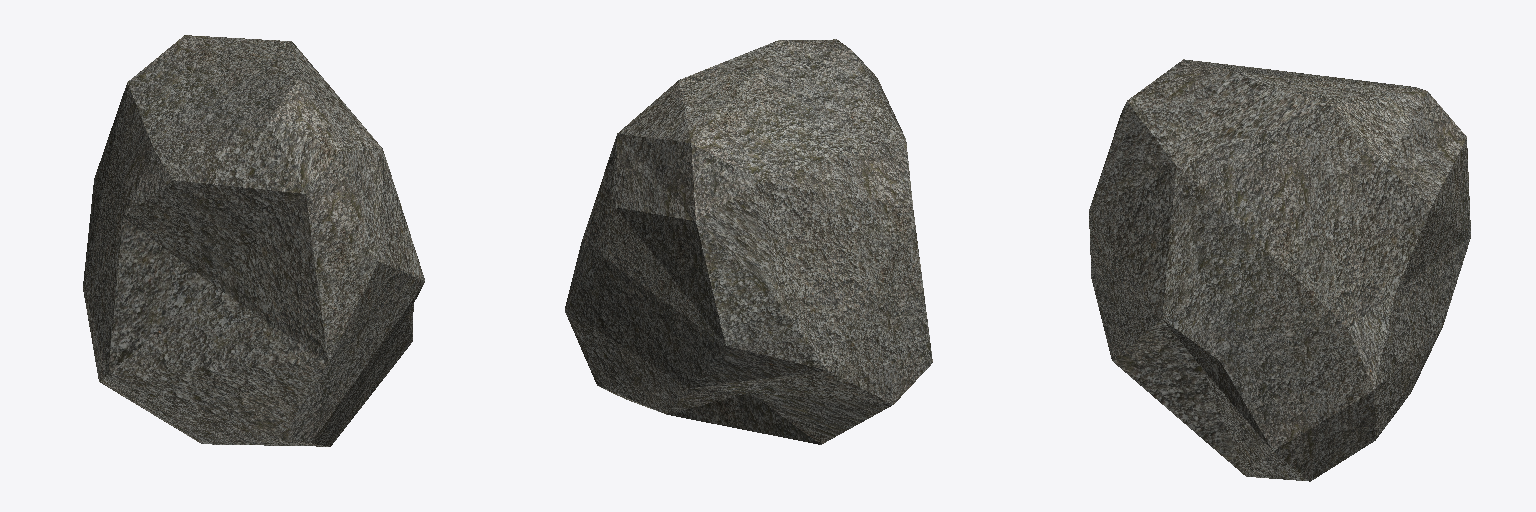
3 renders of one model, left to right at view 1: azimuth 30°, elevation 25°; view 2: azimuth 150°, elevation 25°; view 3: azimuth 270°, elevation 25°, orthographic.
Parts seen in each view (by area): view 1: bouldercubic64; view 2: bouldercubic64; view 3: bouldercubic64.
Part boxes in pixels (x1,y1,x2,y2): bouldercubic64: (83,35,424,446); bouldercubic64: (565,39,932,444); bouldercubic64: (1089,59,1470,481).
Bounding box in the file's own units: 1.89 × 2.22 × 2.
Materials: 1 (1 with a texture image).